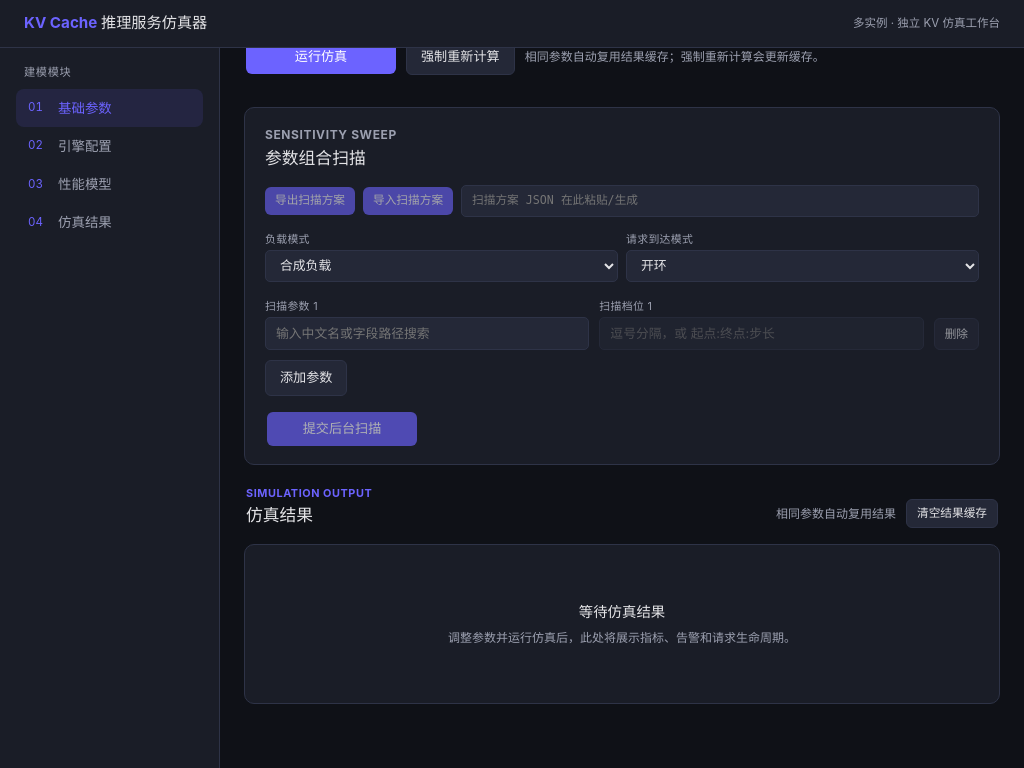
App › reports cache clearing errors
This screenshot has width=1024, height=768.
(page scrolled)
What coordinates should you click on to do the following:
click the button "清空结果缓存"
I would click on:
 (952, 514)
Its box is [906,499,998,528].
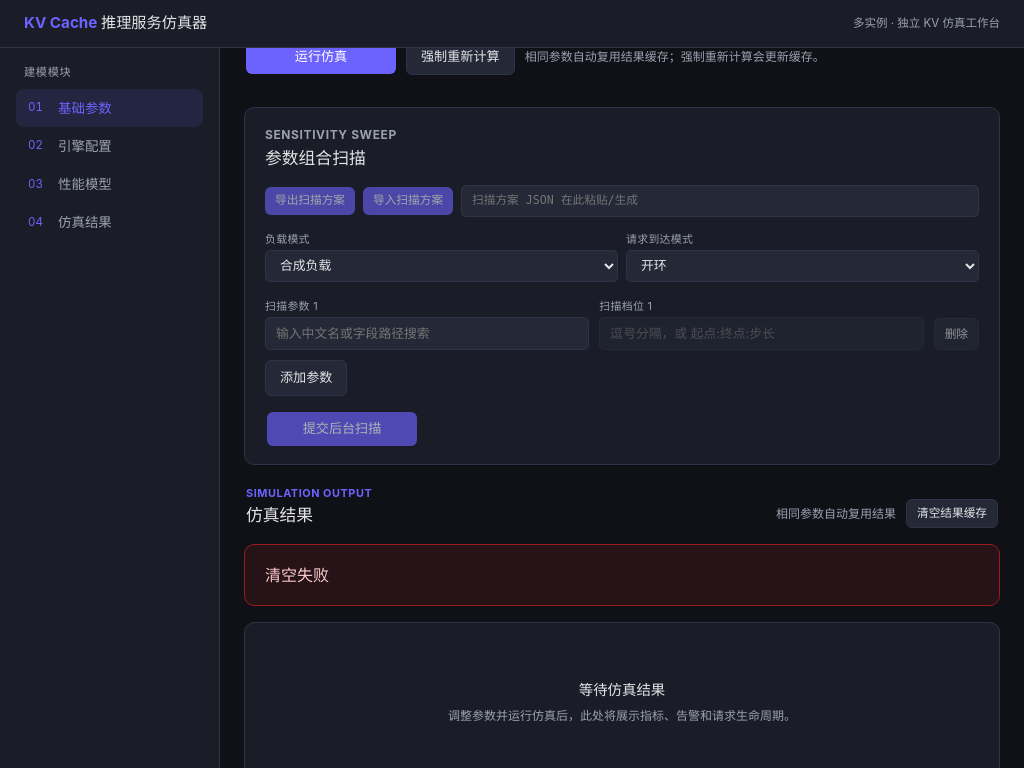
Expected: the message reads "清空失败", [265,565,329,585]
